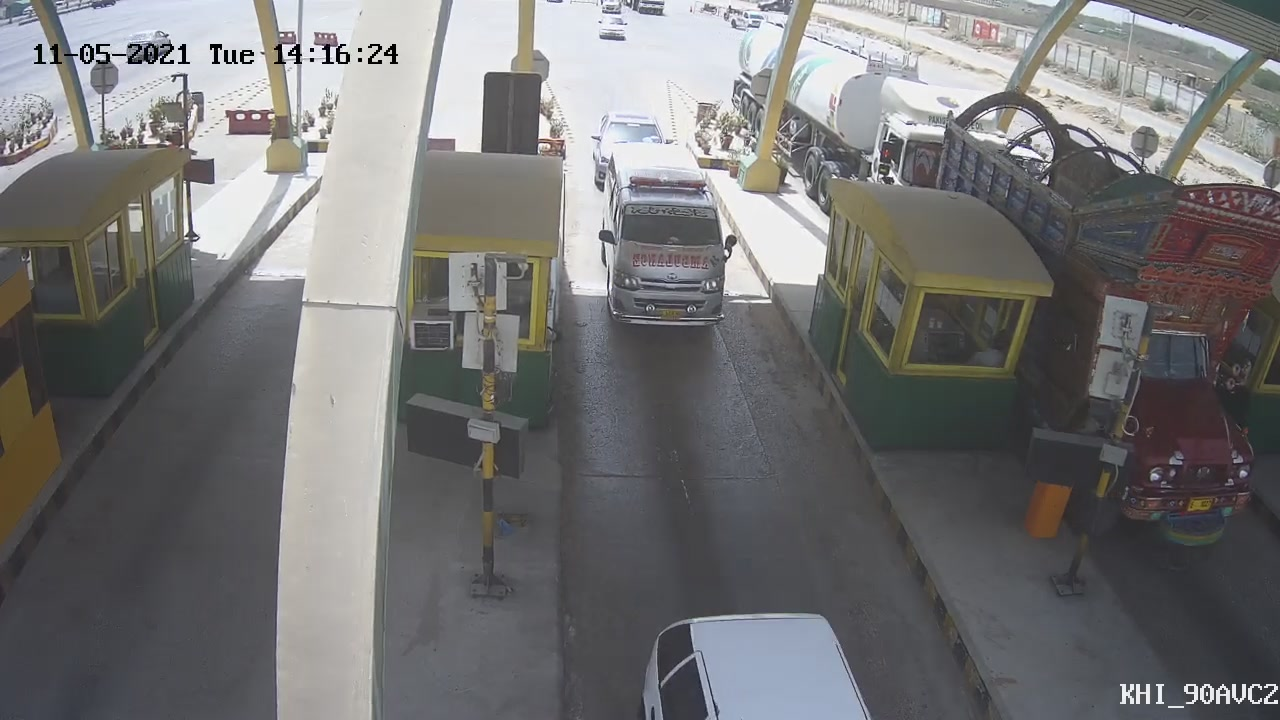F2: (601, 138, 745, 365)
